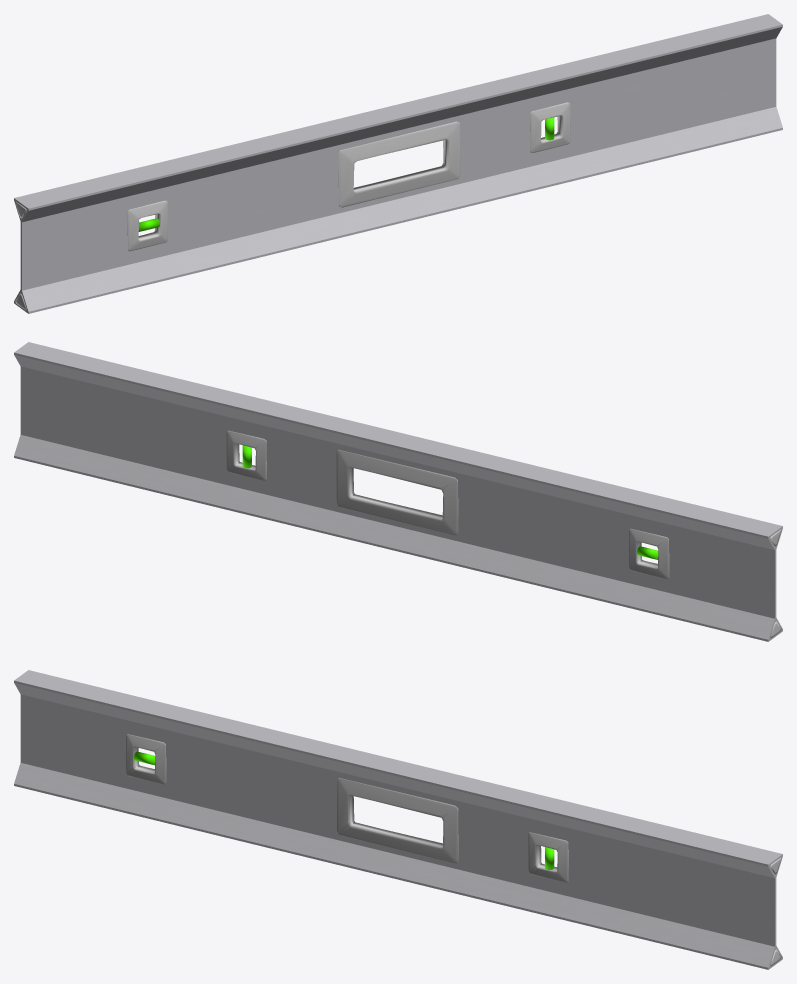
File: SM_Level1_Vattenpass_75_A.fbx
3 views of the same model, one above another, from view 1: azimuth 30°, elevation 25°; view 2: azimuth 150°, elevation 25°; view 3: azimuth 330°, elevation 25° (orthographic).
Visible parts, largest first — view 1: Base, Handle, Socket_2, Socket_1; view 2: Base, Handle, Socket_2, Socket_1; view 3: Base, Handle, Socket_2, Socket_1.
Part boxes in pixels (x1,y1,x2,y2): Base: [14, 14, 782, 313]; Handle: [338, 121, 460, 207]; Socket_2: [530, 102, 570, 152]; Socket_1: [127, 200, 167, 251]; Base: [14, 342, 782, 641]; Handle: [336, 449, 458, 535]; Socket_2: [226, 430, 266, 480]; Socket_1: [629, 528, 669, 579]; Base: [14, 670, 782, 969]; Handle: [337, 778, 458, 863]; Socket_2: [528, 832, 568, 882]; Socket_1: [126, 734, 166, 784].
Bounding box in the file's own units: 0.7509 × 0.1 × 0.025.
